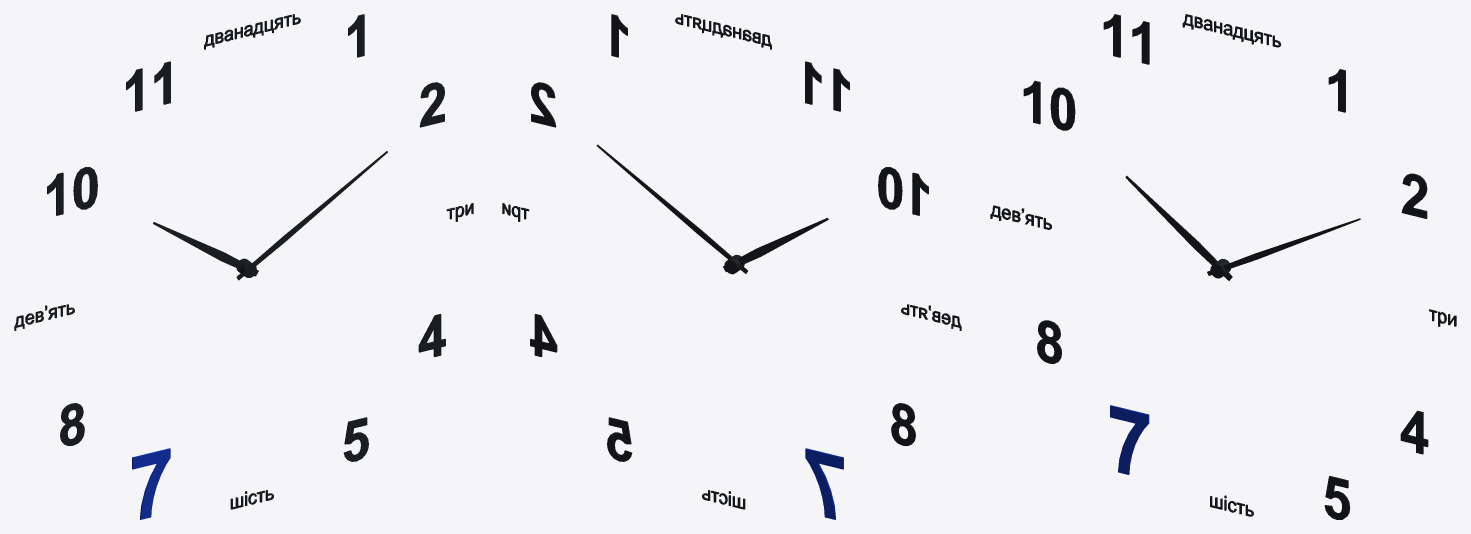
Rendered from wallClock-1.glb.
3 renders of one model, left to right at view 1: azimuth 30°, elevation 25°; view 2: azimuth 150°, elevation 25°; view 3: azimuth 330°, elevation 25°, orthographic.
Visible parts, largest first — view 1: Clock_graphite, Clock_EDS_blue, Clock_minute_hand_blade, Clock_hour_hand_blade; view 2: Clock_graphite, Clock_EDS_blue, Clock_minute_hand_blade, Clock_hour_hand_blade; view 3: Clock_graphite, Clock_EDS_blue, Clock_hour_hand_blade, Clock_minute_hand_blade.
Part boxes in pixels (x1,y1,x2,y2): Clock_graphite: (14, 14, 473, 509); Clock_EDS_blue: (132, 448, 170, 519); Clock_minute_hand_blade: (236, 151, 387, 280); Clock_hour_hand_blade: (153, 222, 258, 276); Clock_graphite: (502, 14, 961, 509); Clock_EDS_blue: (805, 448, 843, 519); Clock_minute_hand_blade: (596, 144, 748, 273); Clock_hour_hand_blade: (723, 217, 828, 271); Clock_graphite: (990, 14, 1456, 519); Clock_EDS_blue: (1110, 405, 1149, 474); Clock_hour_hand_blade: (1125, 176, 1232, 280); Clock_minute_hand_blade: (1207, 218, 1360, 275).
Size of the model in its own units: 1.25 by 1.25 by 0.035.
